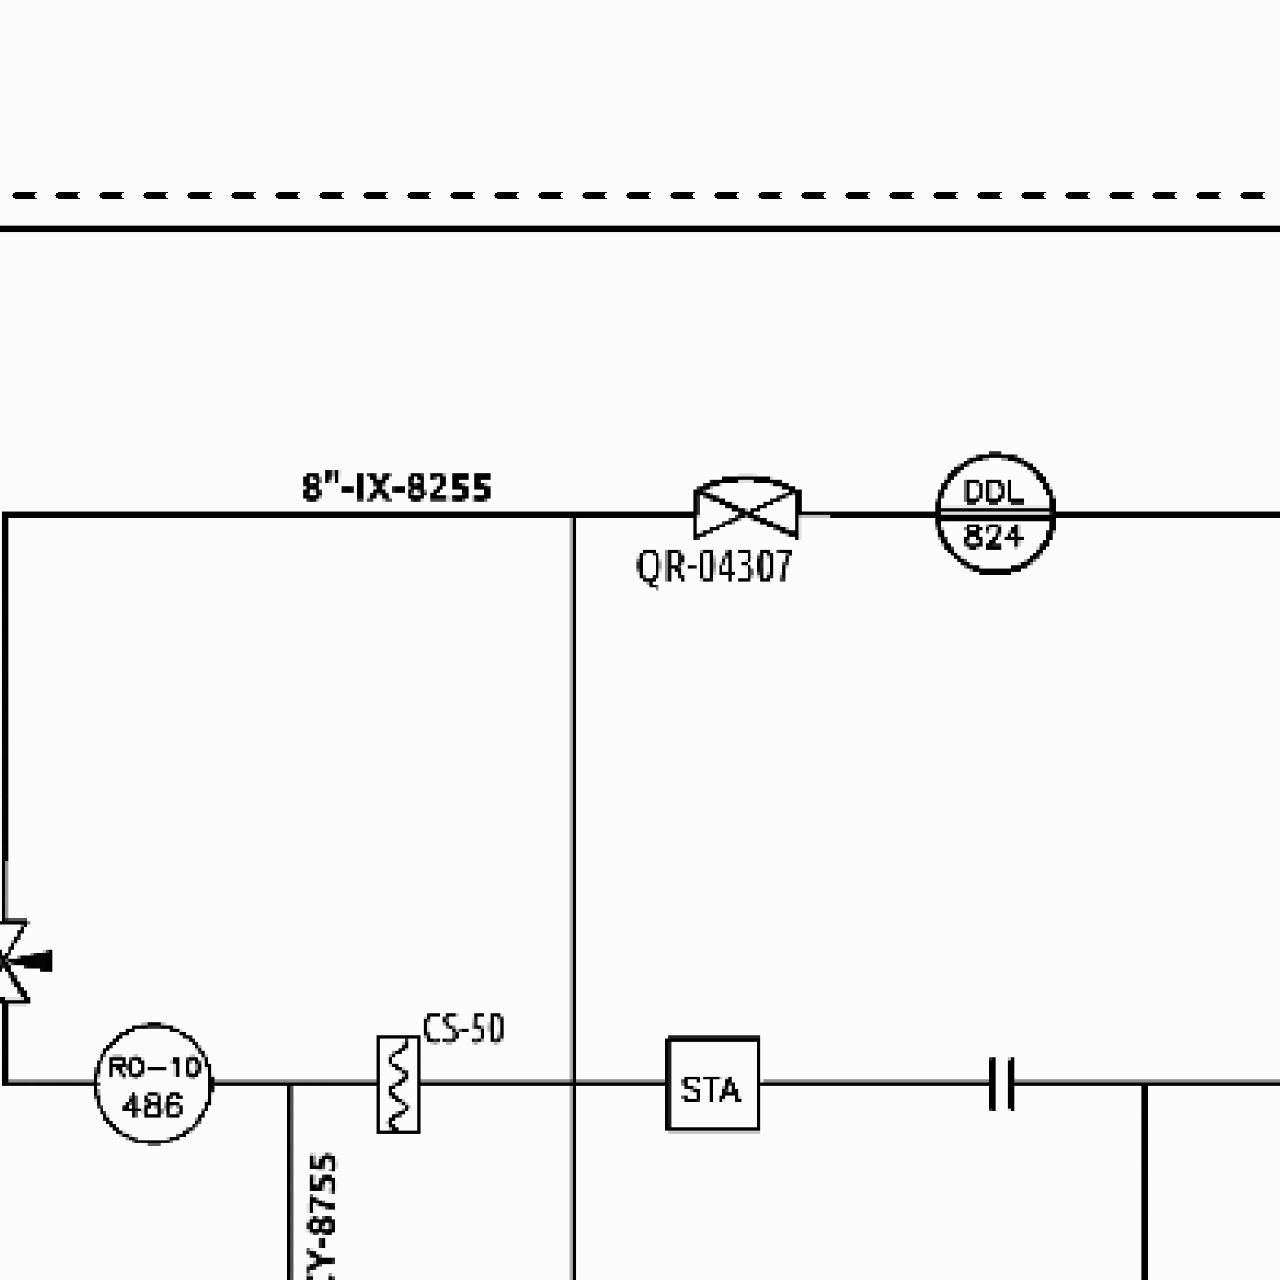Control-Panel: (87, 1017, 217, 1148), (930, 448, 1058, 578)
